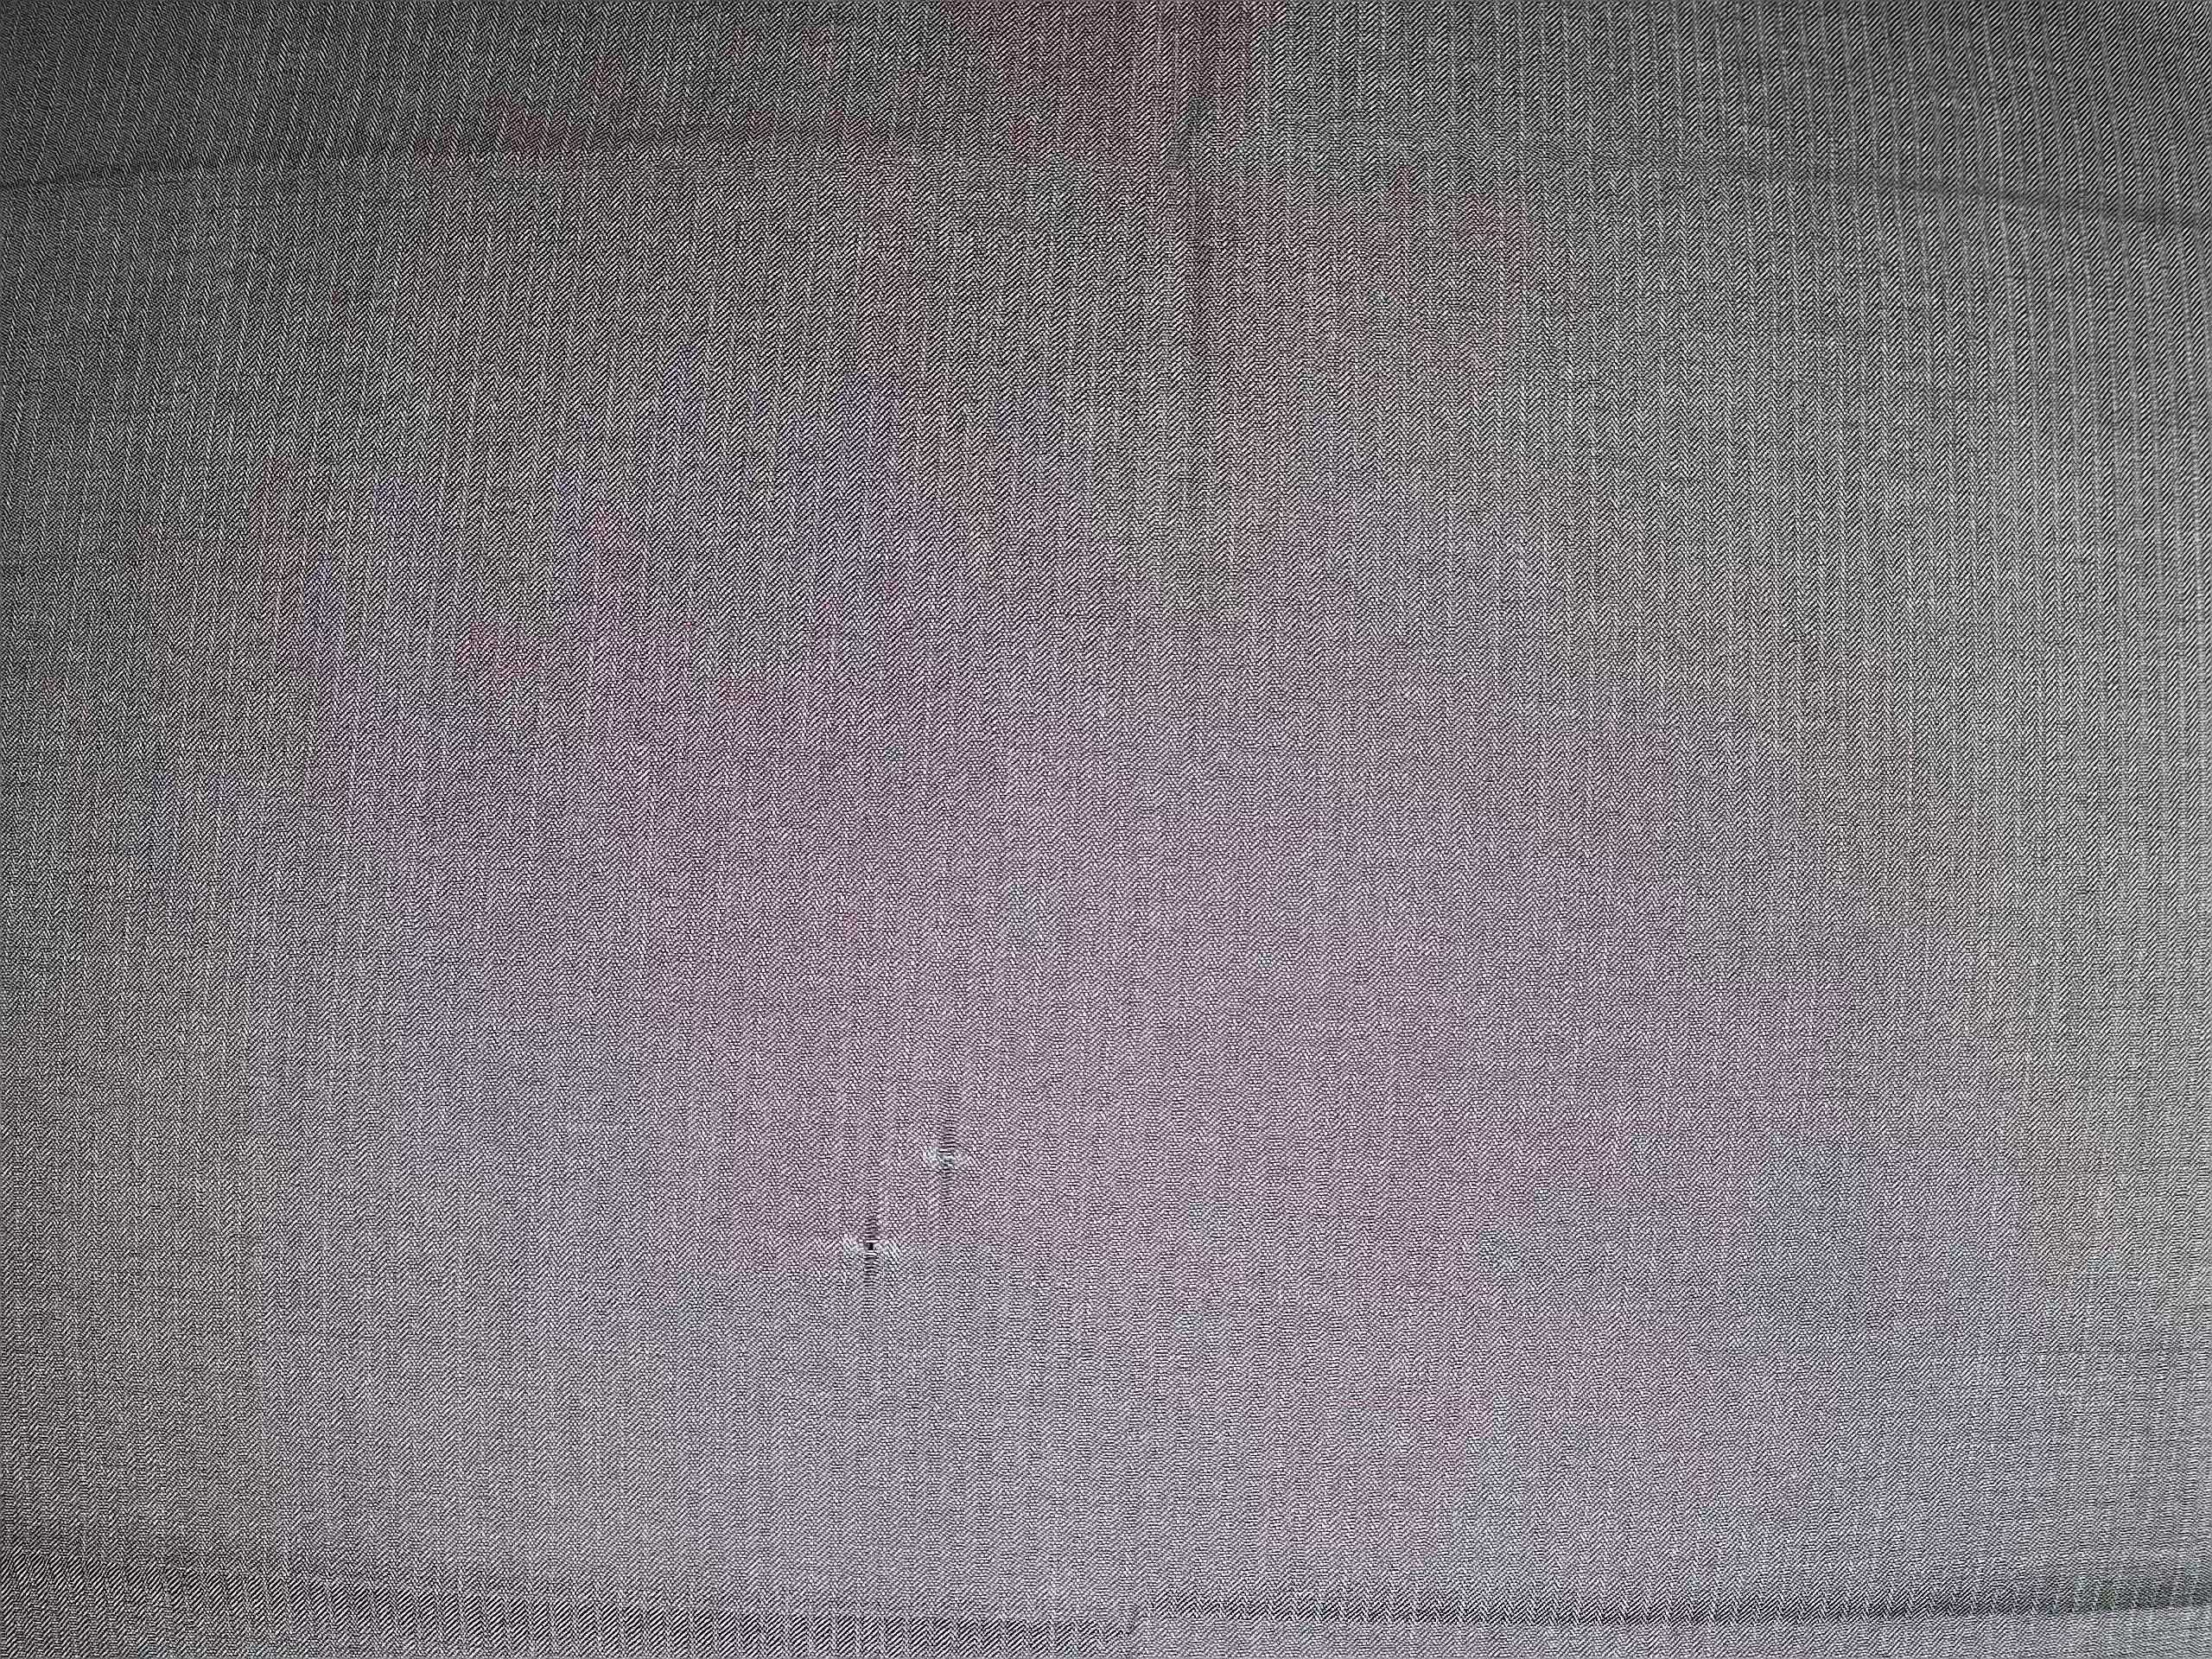rubbing-hole: (921, 1112, 977, 1218), (833, 1209, 904, 1286)
